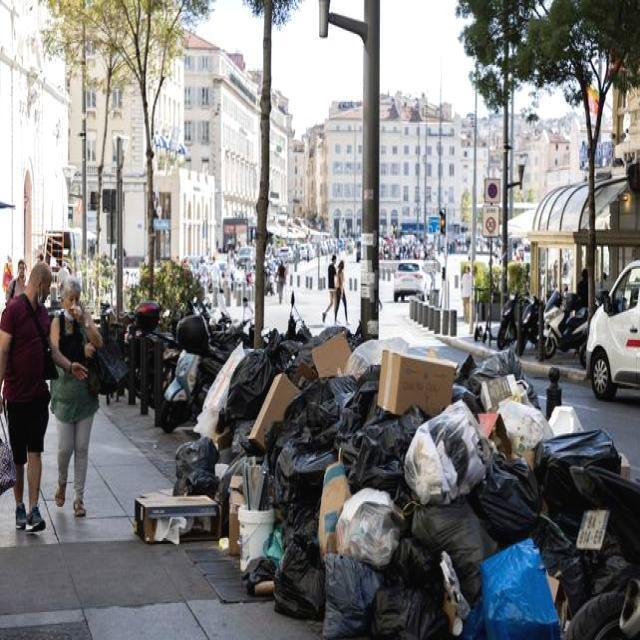high trash: (136, 331, 640, 640)
